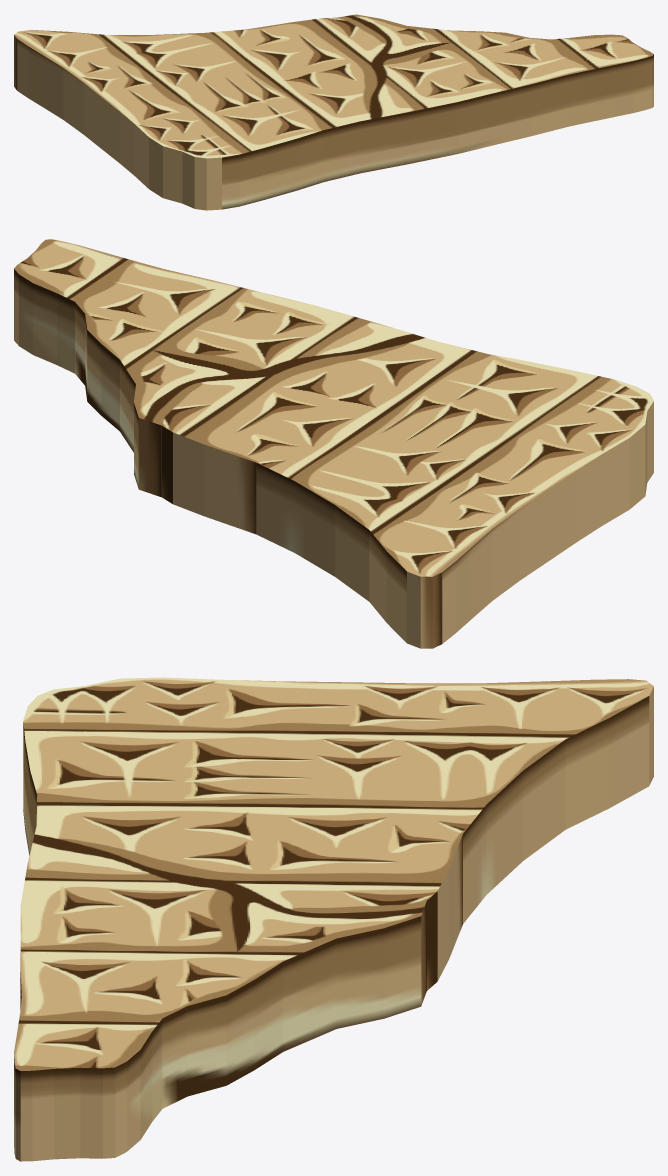
File: Artefact.glb
The picture shows the model from 3 angles, top to bottom: view 1: azimuth 30°, elevation 25°; view 2: azimuth 150°, elevation 25°; view 3: azimuth 270°, elevation 25°; orthographic projection. The views are drawn at different scales.
Visible parts, largest first — view 1: Plane; view 2: Plane; view 3: Plane.
Part boxes in pixels (x1,y1,x2,y2): Plane: (14,14,653,210); Plane: (14,239,653,648); Plane: (14,677,653,1161).
Size of the model in its own units: 15.01 by 1.61 by 10.31.
Materials: 1 (1 with a texture image).
